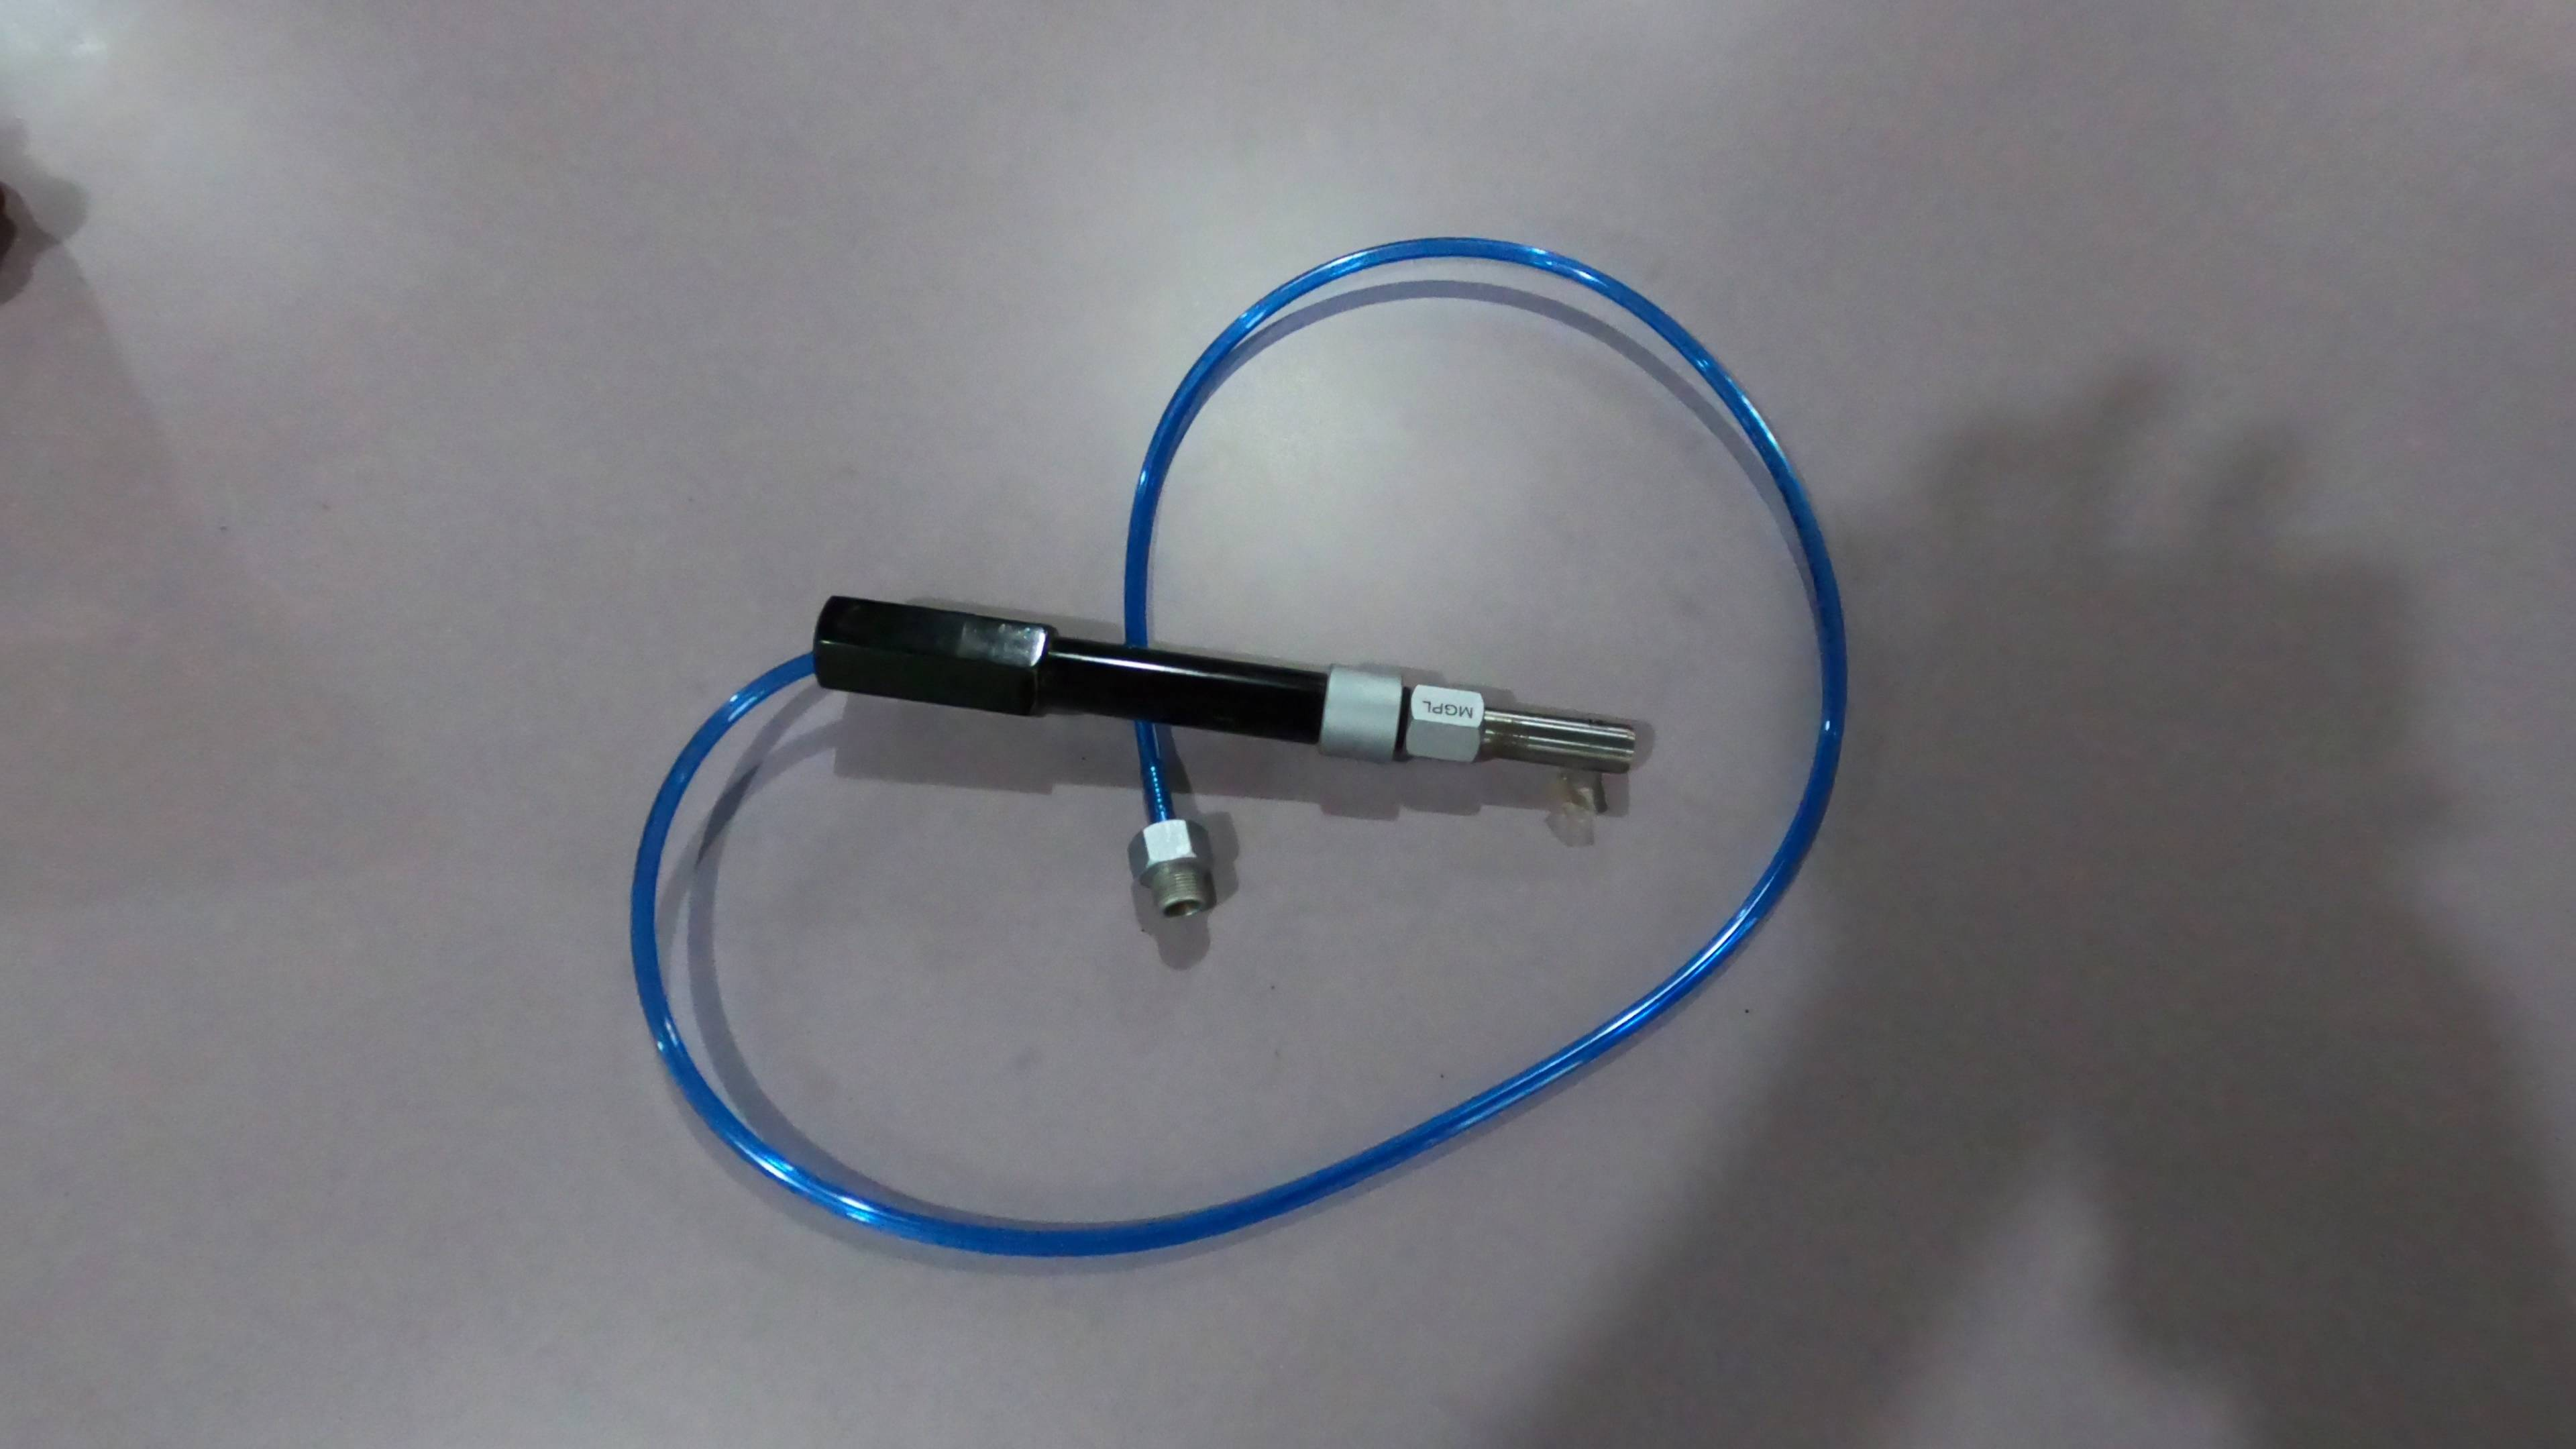air_gauge: (809, 579, 1649, 796)
